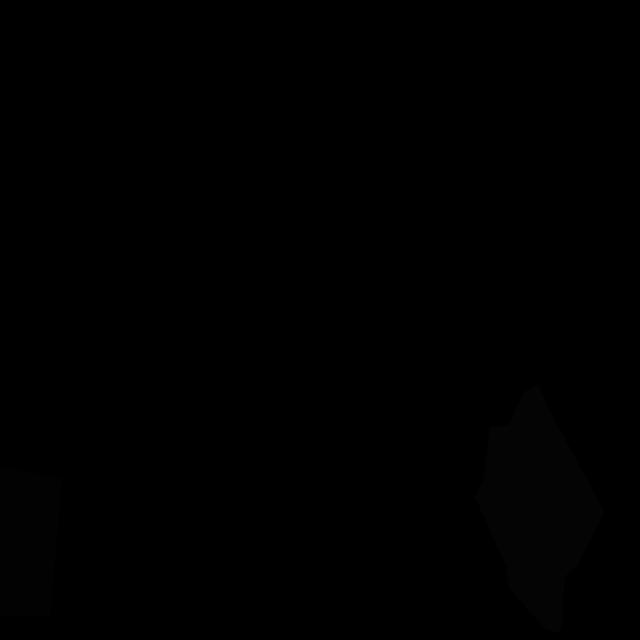cardboard: (0, 467, 62, 617)
soft_plastic: (475, 385, 604, 633)
